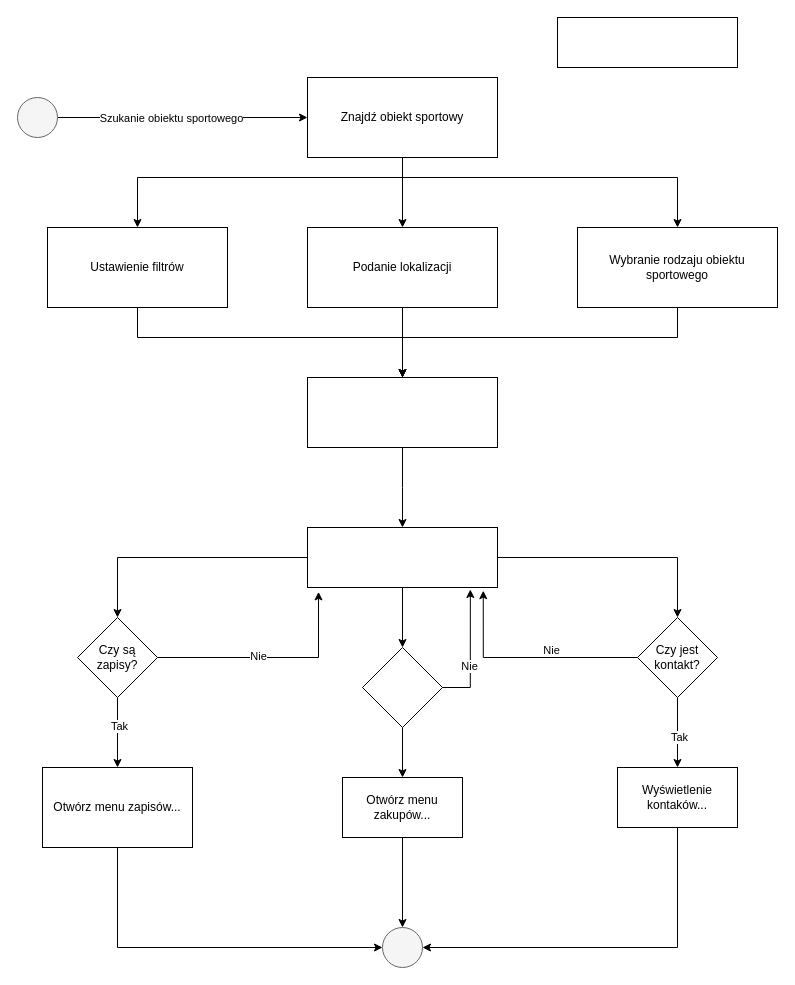
This 795x985 diagram has some shape labels left out. The centre of each missing label's shape, as x and y in pixels:
Czy są karnety?: [402,687]
Dawid Niedziński: [647,42]
Opcje po kliknięciu w wynik...: [402,557]
Wyświetlenie obiektów sportowych: [402,412]
